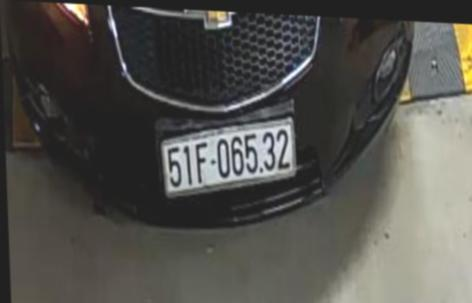License_Plate: (154, 110, 302, 210)
